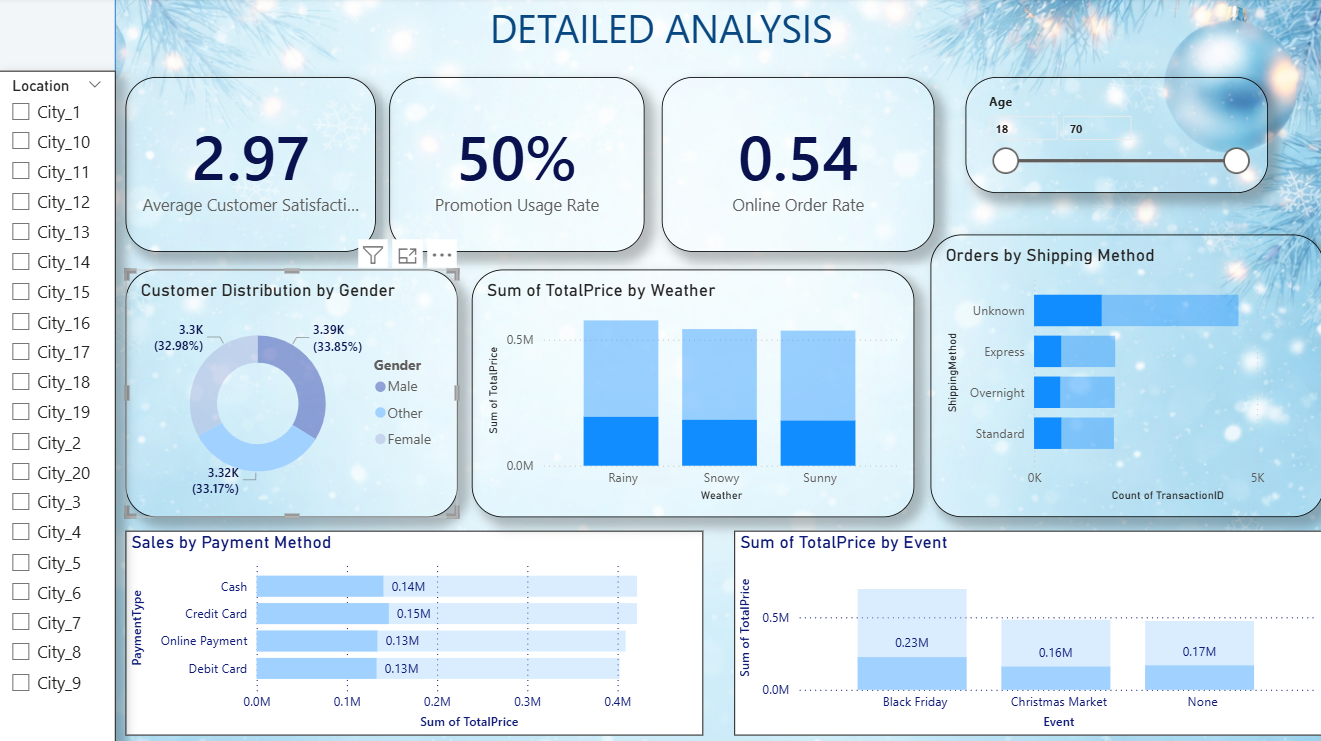

This screenshot's page, from the dashboard's own definition file:
{"tool":"powerbi","page":{"name":"Page 2","canvas":[1280,720],"ordinal":1},"visuals":[{"type":"textbox","box":[0,0,1280.3,70.9],"z":0},{"type":"shape","box":[0,0,113.7,720.2],"z":1000},{"type":"card","fields":{"Values":["sales data cleaned.Average Customer Satisfaction"]},"box":[123.1,77.2,241.3,168.9],"z":2000},{"type":"card","fields":{"Values":["sales data cleaned.Promotion Usage Rate"]},"box":[377.6,77.2,246.1,168.9],"z":3000},{"type":"card","fields":{"Values":["sales data cleaned.Online Order Rate"]},"box":[640.6,77.2,263,168.9],"z":4000},{"type":"donutChart","title":"Customer Distribution by Gender","fields":{"Category":["sales data cleaned.Gender"],"Y":["CountNonNull(sales data cleaned.CustomerID)"]},"box":[123.1,263,320.9,238.9],"z":5000},{"type":"clusteredBarChart","title":"Orders by Shipping Method","fields":{"Category":["sales data cleaned.ShippingMethod"],"Y":["CountNonNull(sales data cleaned.TransactionID)"]},"box":[900,229.2,380,272.7],"z":6000},{"type":"clusteredBarChart","title":"Sales by Payment Method","fields":{"Y":["Sum(sales data cleaned.TotalPrice)"],"Category":["sales data cleaned.PaymentType"]},"box":[123.1,515.2,557.4,197.9],"z":7000},{"type":"clusteredColumnChart","fields":{"Category":["sales data cleaned.Weather"],"Y":["Sum(sales data cleaned.TotalPrice)"]},"box":[457.2,263,427.1,238.9],"z":8000},{"type":"clusteredColumnChart","fields":{"Category":["sales data cleaned.Event"],"Y":["Sum(sales data cleaned.TotalPrice)"]},"box":[710.6,515.2,569.4,197.9],"z":9000},{"type":"slicer","fields":{"Values":["sales data cleaned.Location"]},"box":[0,71.2,113.4,649.1],"z":10000},{"type":"slicer","fields":{"Values":["sales data cleaned.Age"]},"box":[933.8,77.2,292,112.2],"z":11000}]}

Visuals, with their boxes in screenshot pixels (x1, y1, x2, y2), scaled from the page's 1280x720 canvas onto the 1321x741 screenshot:
textbox: {"left": 0, "top": 0, "right": 1320, "bottom": 73}
shape: {"left": 0, "top": 0, "right": 117, "bottom": 740}
card - sales data cleaned.Average Customer Satisfaction: {"left": 127, "top": 79, "right": 376, "bottom": 253}
card - sales data cleaned.Promotion Usage Rate: {"left": 390, "top": 79, "right": 644, "bottom": 253}
card - sales data cleaned.Online Order Rate: {"left": 661, "top": 79, "right": 933, "bottom": 253}
"Customer Distribution by Gender" donutChart: {"left": 127, "top": 271, "right": 458, "bottom": 517}
"Orders by Shipping Method" clusteredBarChart: {"left": 929, "top": 236, "right": 1320, "bottom": 517}
"Sales by Payment Method" clusteredBarChart: {"left": 127, "top": 530, "right": 702, "bottom": 734}
clusteredColumnChart - sales data cleaned.Weather x Sum(sales data cleaned.TotalPrice): {"left": 472, "top": 271, "right": 913, "bottom": 517}
clusteredColumnChart - sales data cleaned.Event x Sum(sales data cleaned.TotalPrice): {"left": 733, "top": 530, "right": 1320, "bottom": 734}
slicer - sales data cleaned.Location: {"left": 0, "top": 73, "right": 117, "bottom": 740}
slicer - sales data cleaned.Age: {"left": 964, "top": 79, "right": 1265, "bottom": 195}
